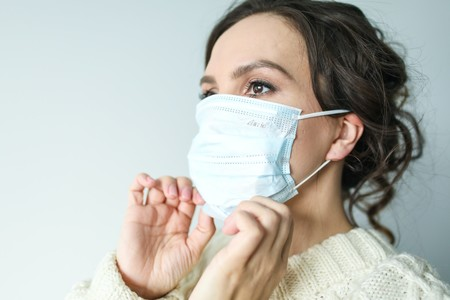with_mask: (185, 8, 364, 226)
